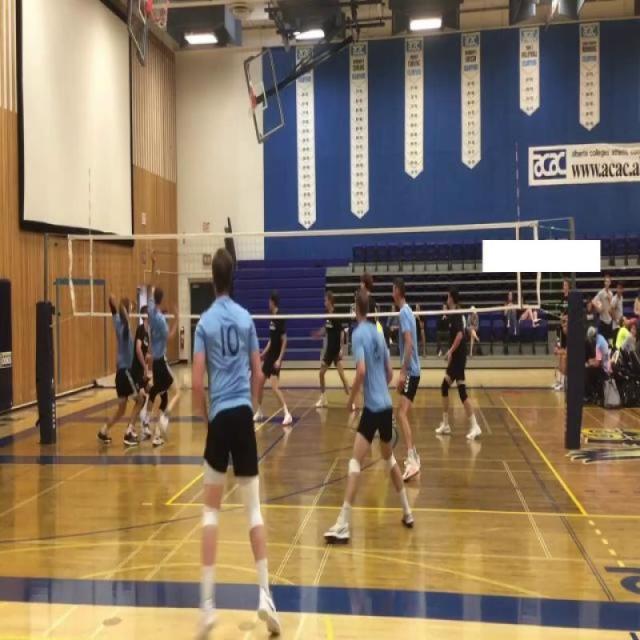volleyball: (181, 374, 190, 394)
